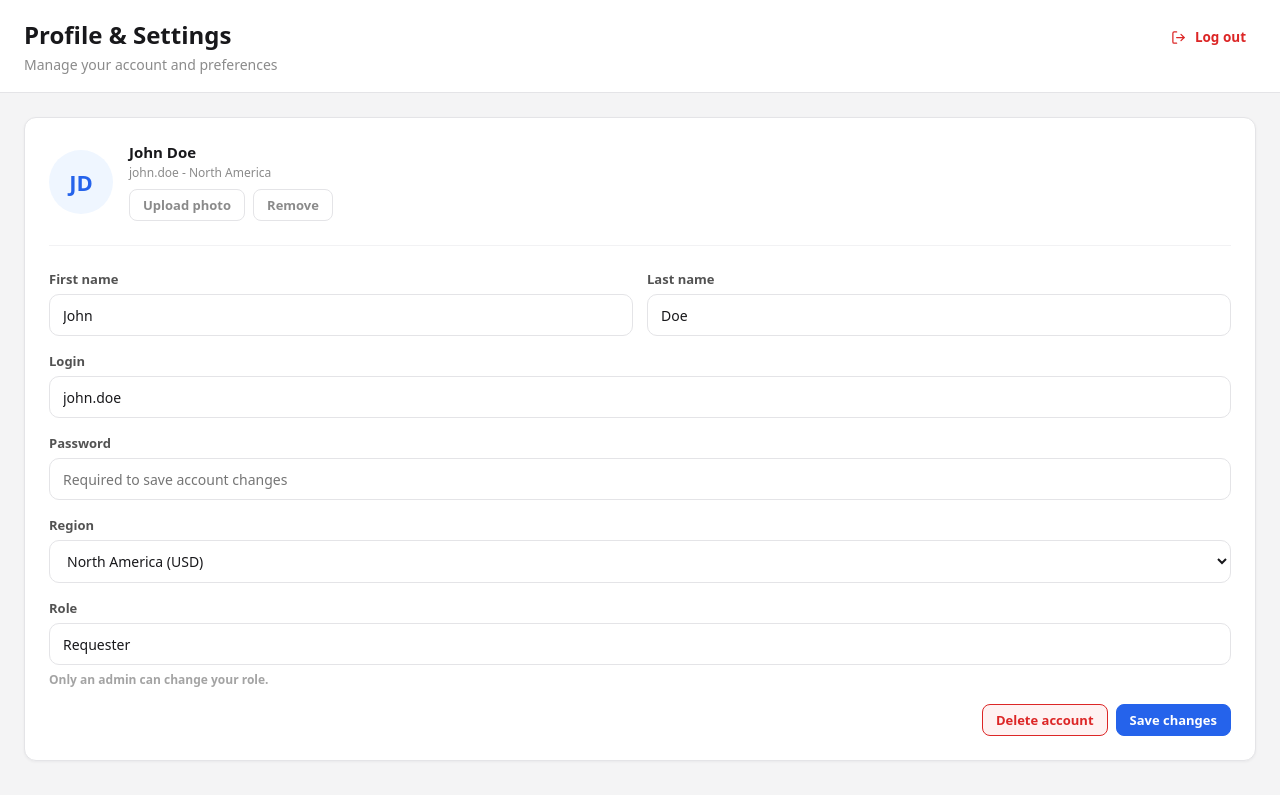
Scenario: ProfileView › requires password before saving profile changes
Click the button "Save changes": (1173, 720) [1116, 704, 1231, 736]
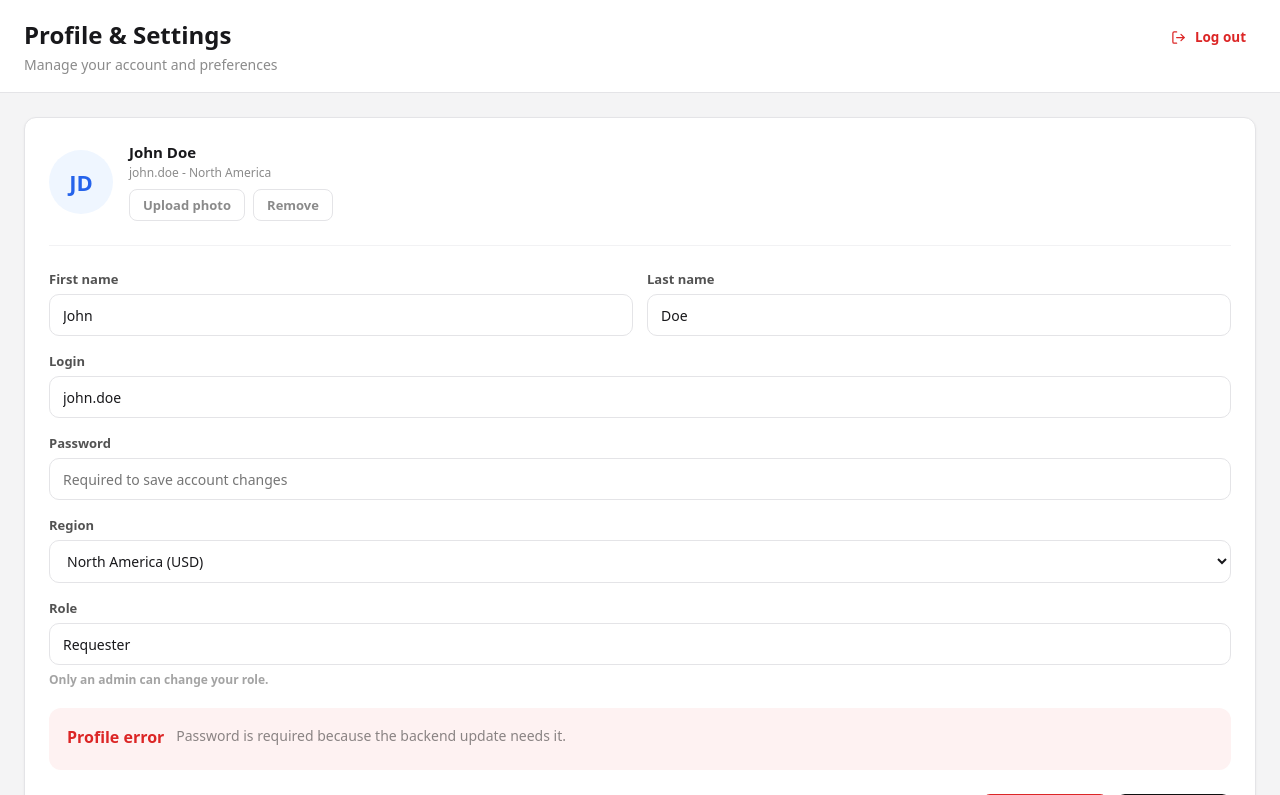
Result: the text "Password is required because the backend update needs it." is shown at [176, 726, 566, 752]
